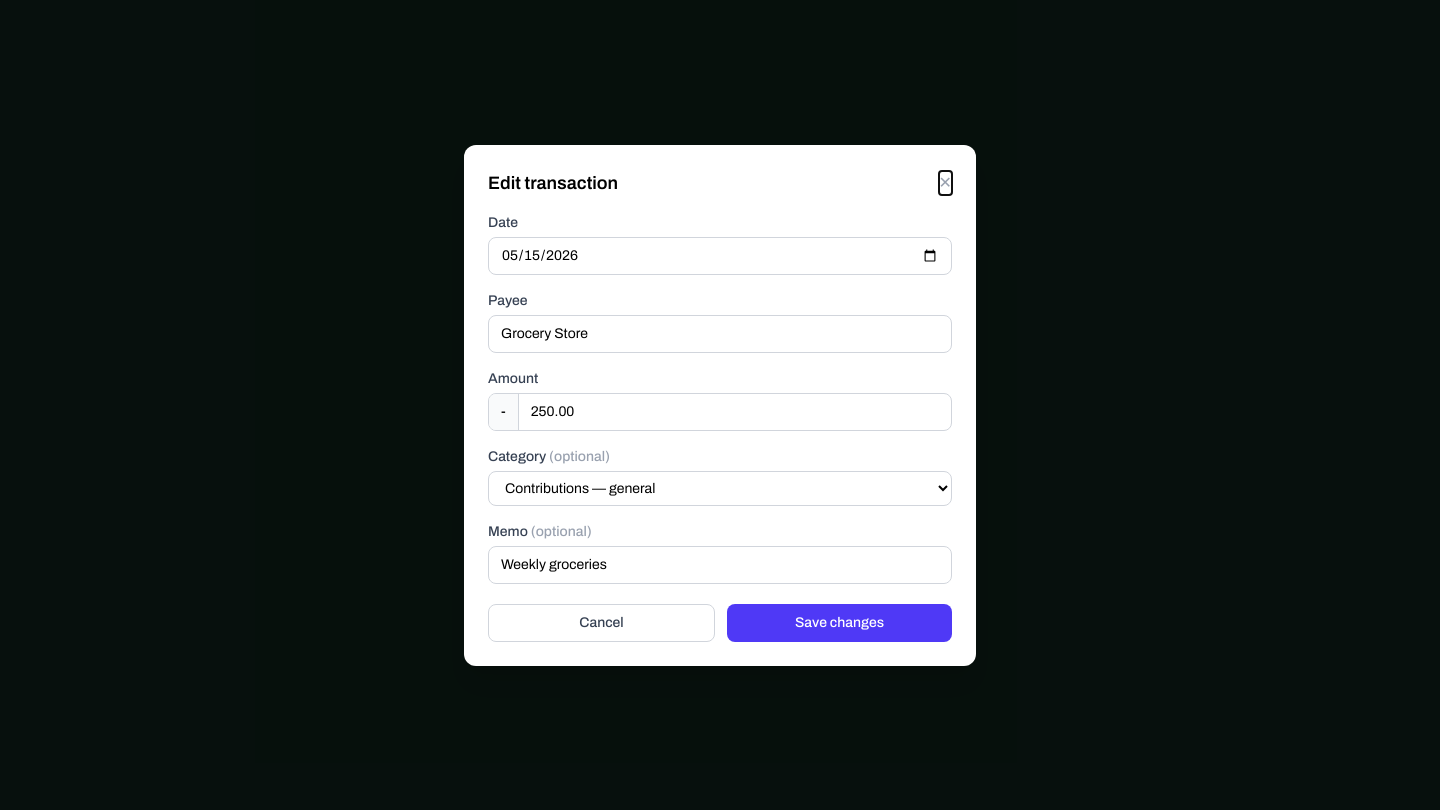
Test case: EditTransactionModal › shows 'Transaction no longer exists' for 404 response
The width and height of the screenshot is (1440, 810).
Click the button "Save changes": point(840, 622) [727,604,952,642]
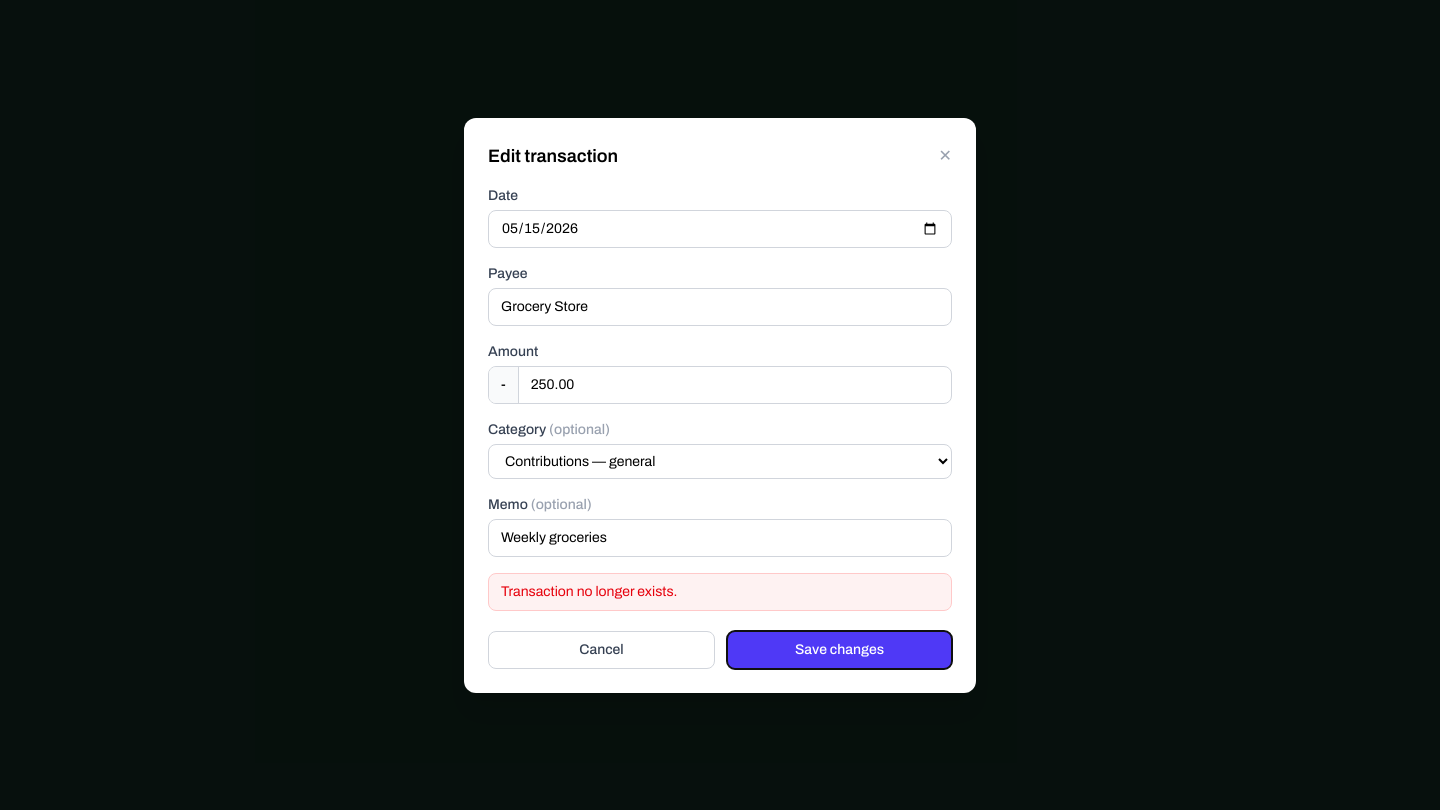
Expected: the text "Transaction no longer exists." is shown, [488,572,952,610]
